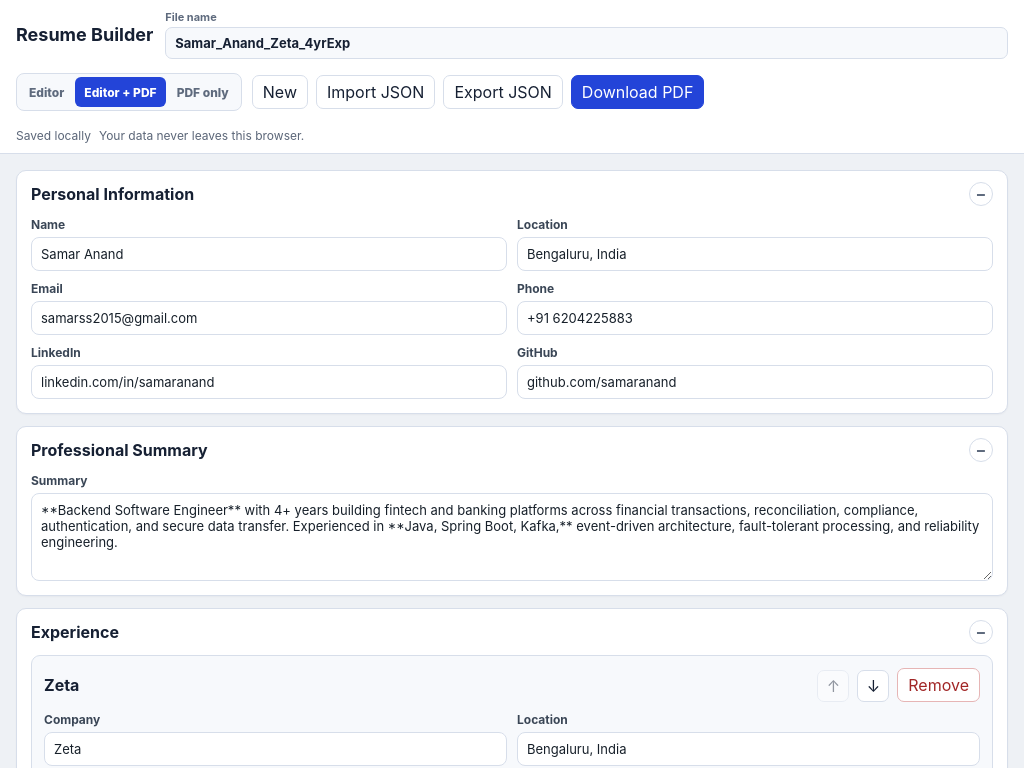
Scenario: App › New button opens options dialog with Blank Template and Sample Template choices
The image size is (1024, 768).
Expected: the text "Start a new resume?" is not shown
Click the button "New". click: coordinates (280, 92)
box: [252, 75, 308, 109]
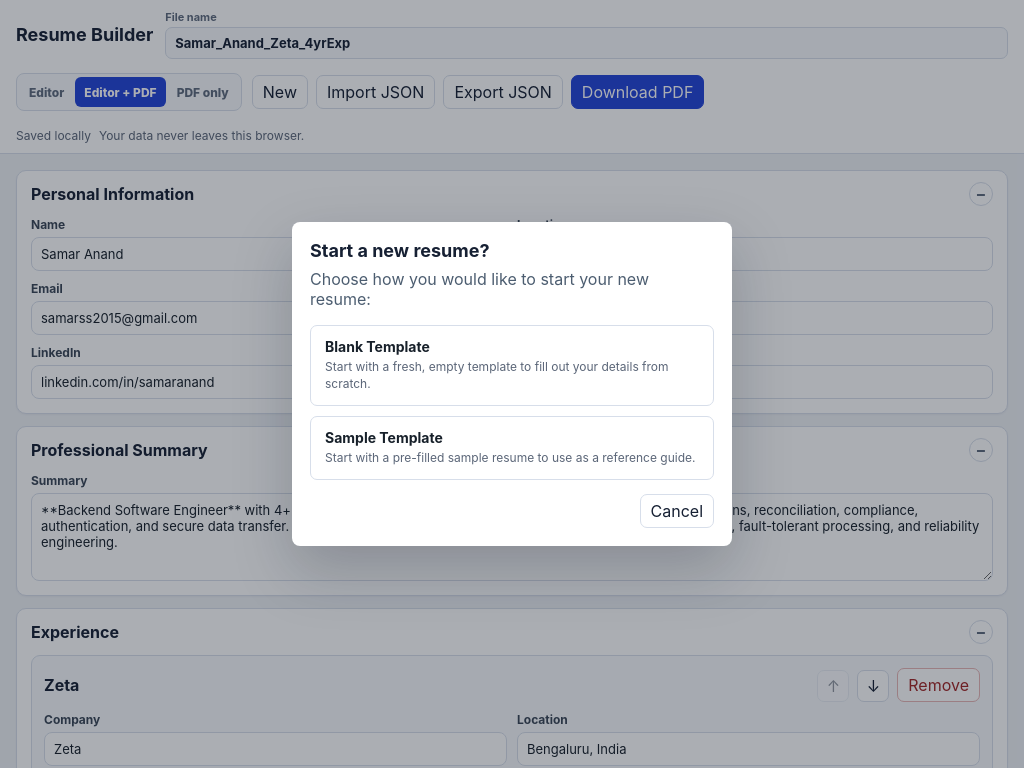
Now the heading "Start a new resume?" is shown, box [310, 240, 490, 261]
Now the button "Blank Template" is shown, box [310, 325, 714, 406]
Now the button "Sample Template" is shown, box [310, 416, 714, 480]
